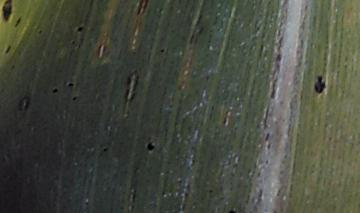tarspot: (311, 74, 328, 95), (1, 1, 13, 24), (145, 140, 156, 152), (14, 15, 24, 28), (3, 43, 12, 56), (75, 24, 85, 34), (50, 86, 59, 95), (66, 80, 76, 88), (70, 94, 78, 103), (70, 38, 77, 48), (225, 207, 236, 213), (264, 132, 270, 143), (158, 46, 166, 54), (37, 28, 44, 37), (102, 146, 110, 153), (222, 115, 227, 125), (206, 188, 215, 193), (77, 41, 81, 51)
